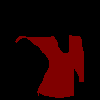maglia: (14, 34, 84, 98)
